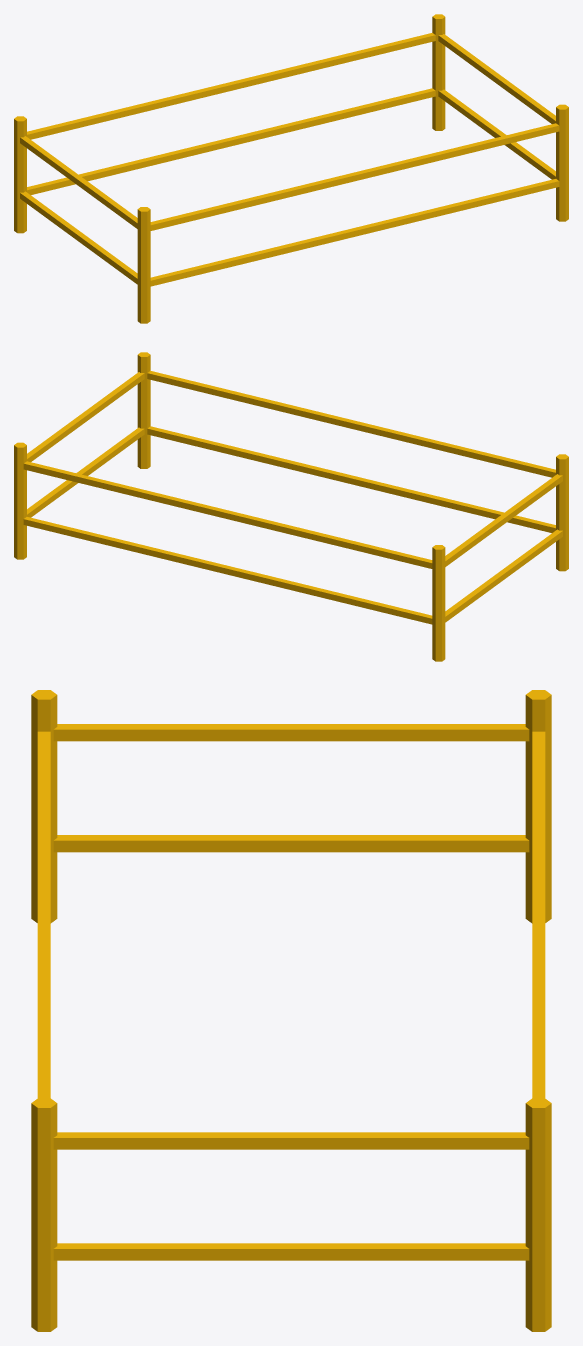
The model's file is Scaffold_Rails_4_Yellow_01.FBX.
3 renders of one model, top to bottom at view 1: azimuth 30°, elevation 25°; view 2: azimuth 150°, elevation 25°; view 3: azimuth 270°, elevation 25°, orthographic. The views are drawn at different scales.
Parts seen in each view (by area): view 1: Scaffold_Rails_4_Yellow_01; view 2: Scaffold_Rails_4_Yellow_01; view 3: Scaffold_Rails_4_Yellow_01.
Part boxes in pixels (x1,y1,x2,y2): Scaffold_Rails_4_Yellow_01: [14, 14, 568, 323]; Scaffold_Rails_4_Yellow_01: [14, 352, 568, 661]; Scaffold_Rails_4_Yellow_01: [31, 690, 551, 1331].
Size of the model in its own units: 7260 by 1815 by 3821.
